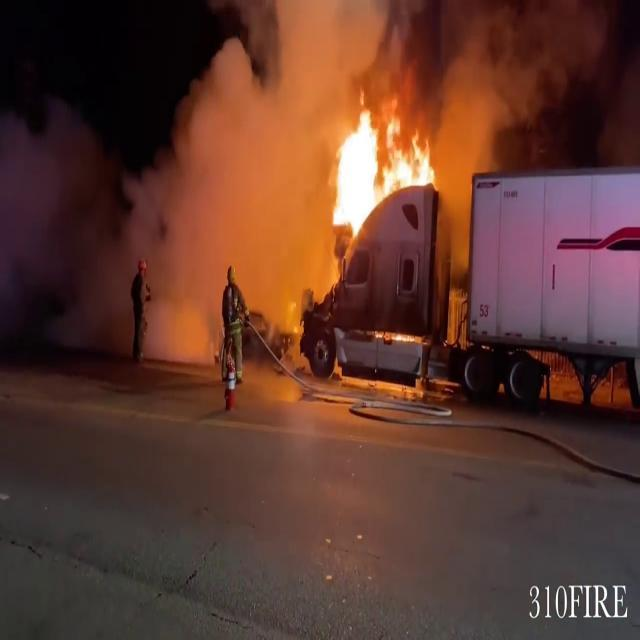Fire: (322, 93, 438, 236)
Smoke: (0, 3, 346, 357), (423, 0, 640, 172)
